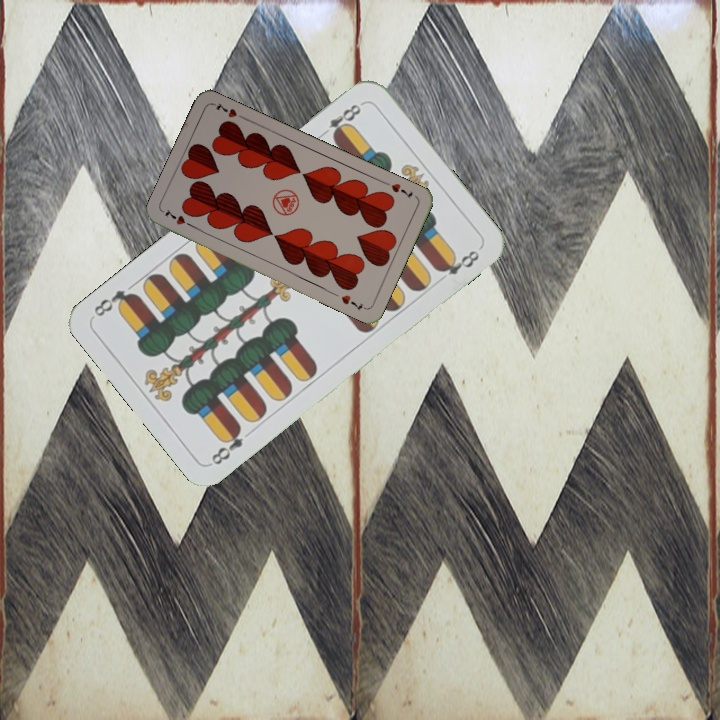E8: (316, 98, 367, 142), (207, 422, 246, 468)
H7: (161, 206, 198, 230), (380, 177, 415, 201)
